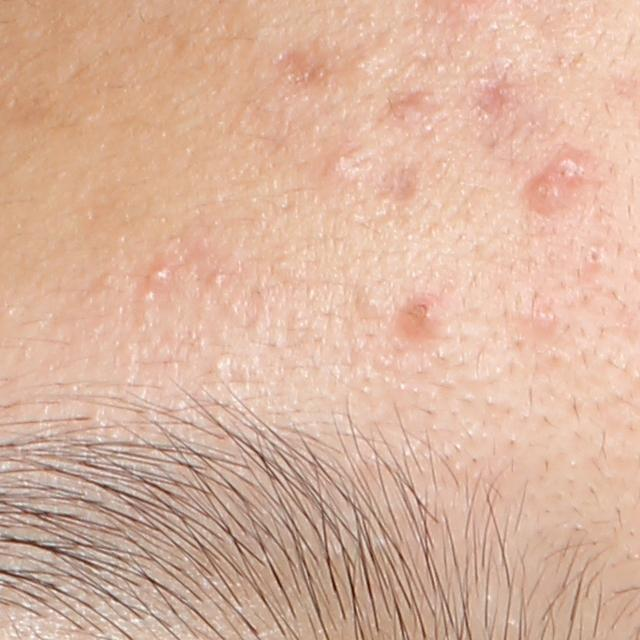comedo: (352, 287, 393, 321), (582, 244, 606, 269), (204, 271, 223, 289)
papule: (523, 171, 571, 223), (399, 293, 442, 336), (146, 263, 172, 289)
